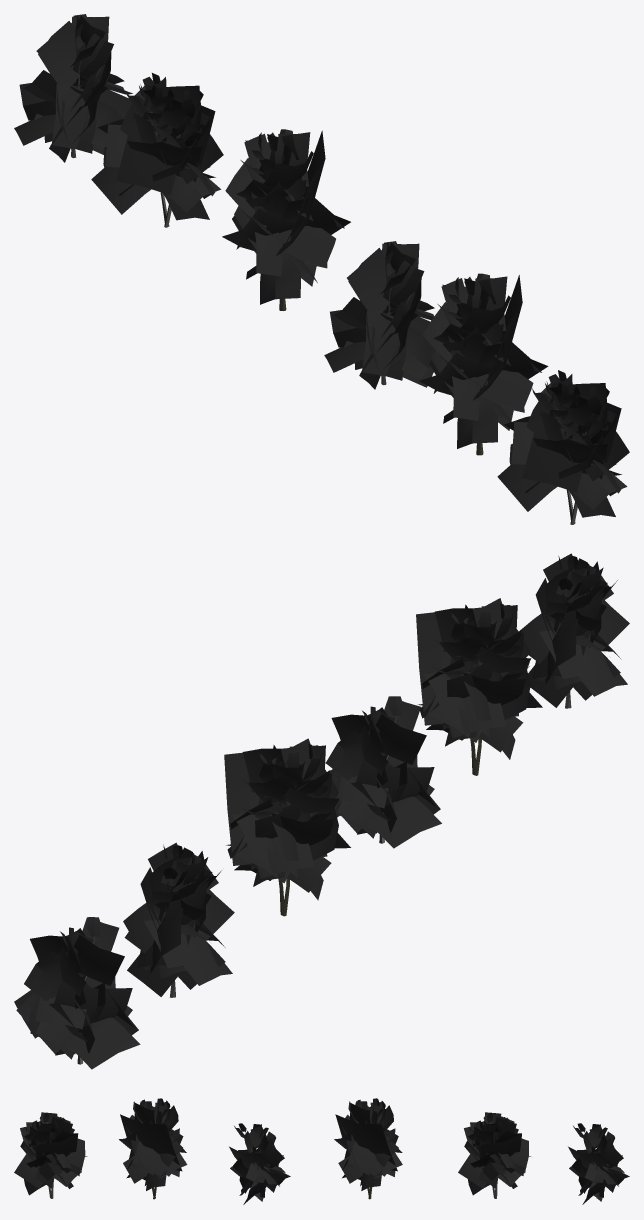
The model's file is fbx_ small_tree_row.fbx.
3 views of the same model, one above another, from view 1: azimuth 30°, elevation 25°; view 2: azimuth 150°, elevation 25°; view 3: azimuth 270°, elevation 25° (orthographic). The views are drawn at different scales.
Parts seen in each view (by area): view 1: BezierCurve.028_6, BezierCurve.028, BezierCurve.033_5, BezierCurve.033_2, BezierCurve.033_6, BezierCurve.033, BezierCurve.028_2, BezierCurve.028_5, BezierCurve.040_4, BezierCurve.040_3, BezierCurve.040_2, BezierCurve.040_5; view 2: BezierCurve.040_2, BezierCurve.028_5, BezierCurve.028_2, BezierCurve.040_5, BezierCurve.033_5, BezierCurve.033_2, BezierCurve.028_6, BezierCurve.028, BezierCurve.040_3, BezierCurve.040_4, BezierCurve.033_6, BezierCurve.033; view 3: BezierCurve.028, BezierCurve.028_6, BezierCurve.033, BezierCurve.033_6, BezierCurve.040_4, BezierCurve.040_3, BezierCurve.033_2, BezierCurve.033_5, BezierCurve.028_5, BezierCurve.028_2, BezierCurve.040_5, BezierCurve.040_2.
Part boxes in pixels (<box>): BezierCurve.028_6: <box>232,129,350,286</box>; BezierCurve.028: <box>429,273,548,430</box>; BezierCurve.033_5: <box>91,77,221,214</box>; BezierCurve.033_2: <box>497,374,627,511</box>; BezierCurve.033_6: <box>116,73,223,220</box>; BezierCurve.033: <box>522,370,629,517</box>; BezierCurve.028_2: <box>419,278,541,448</box>; BezierCurve.028_5: <box>222,133,344,304</box>; BezierCurve.040_4: <box>344,241,435,387</box>; BezierCurve.040_3: <box>33,14,132,154</box>; BezierCurve.040_2: <box>14,15,124,162</box>; BezierCurve.040_5: <box>324,242,434,389</box>; BezierCurve.040_2: <box>14,917,140,1069</box>; BezierCurve.028_5: <box>226,745,350,900</box>; BezierCurve.028_2: <box>418,604,542,759</box>; BezierCurve.040_5: <box>329,696,441,848</box>; BezierCurve.033_5: <box>123,851,234,985</box>; BezierCurve.033_2: <box>520,561,629,696</box>; BezierCurve.028_6: <box>224,738,339,892</box>; BezierCurve.028: <box>416,598,529,752</box>; BezierCurve.040_3: <box>16,917,133,1059</box>; BezierCurve.040_4: <box>326,696,435,838</box>; BezierCurve.033_6: <box>124,842,225,996</box>; BezierCurve.033: <box>528,553,621,707</box>; BezierCurve.028: <box>119,1098,187,1190</box>; BezierCurve.028_6: <box>334,1098,402,1190</box>; BezierCurve.033: <box>23,1113,80,1195</box>; BezierCurve.033_6: <box>467,1113,524,1195</box>; BezierCurve.040_4: <box>229,1123,290,1204</box>; BezierCurve.040_3: <box>568,1123,629,1204</box>; BezierCurve.033_2: <box>14,1112,87,1188</box>; BezierCurve.033_5: <box>458,1112,530,1188</box>; BezierCurve.028_5: <box>342,1101,402,1186</box>; BezierCurve.028_2: <box>126,1100,186,1185</box>; BezierCurve.040_5: <box>230,1124,285,1187</box>; BezierCurve.040_2: <box>569,1124,624,1187</box>.
Bounding box in the file's own units: 0.6124 × 5.1 × 0.8782.
Materials: 5 (5 with a texture image).
